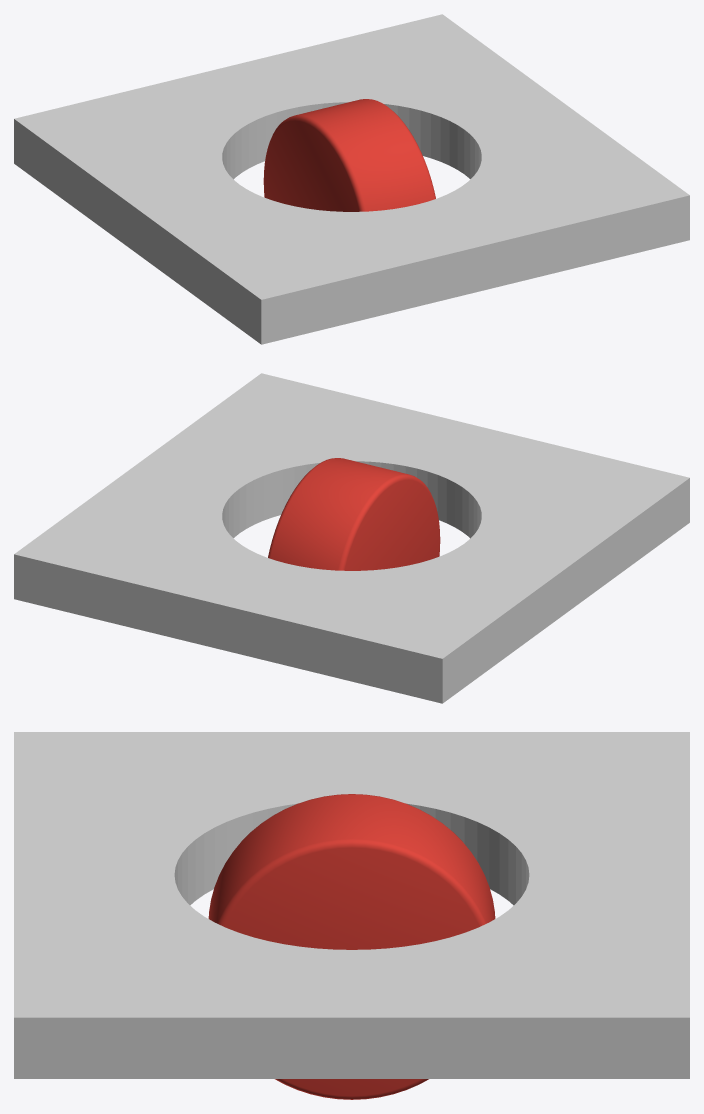
Rendered from VR_Roller.glb.
3 views of the same model, one above another, from view 1: azimuth 30°, elevation 25°; view 2: azimuth 150°, elevation 25°; view 3: azimuth 270°, elevation 25° (orthographic). The views are drawn at different scales.
Visible parts, largest first — view 1: Panel, Roller; view 2: Panel, Roller; view 3: Panel, Roller.
Boxes of the visible parts, box(x1,y1,x2,y2) form: Panel: box(14, 14, 689, 344); Roller: box(263, 99, 435, 211); Panel: box(14, 373, 689, 703); Roller: box(268, 458, 440, 570); Panel: box(14, 732, 689, 1078); Roller: box(208, 794, 495, 1099).
Size of the model in its own units: 0.4 by 0.17 by 0.4.
